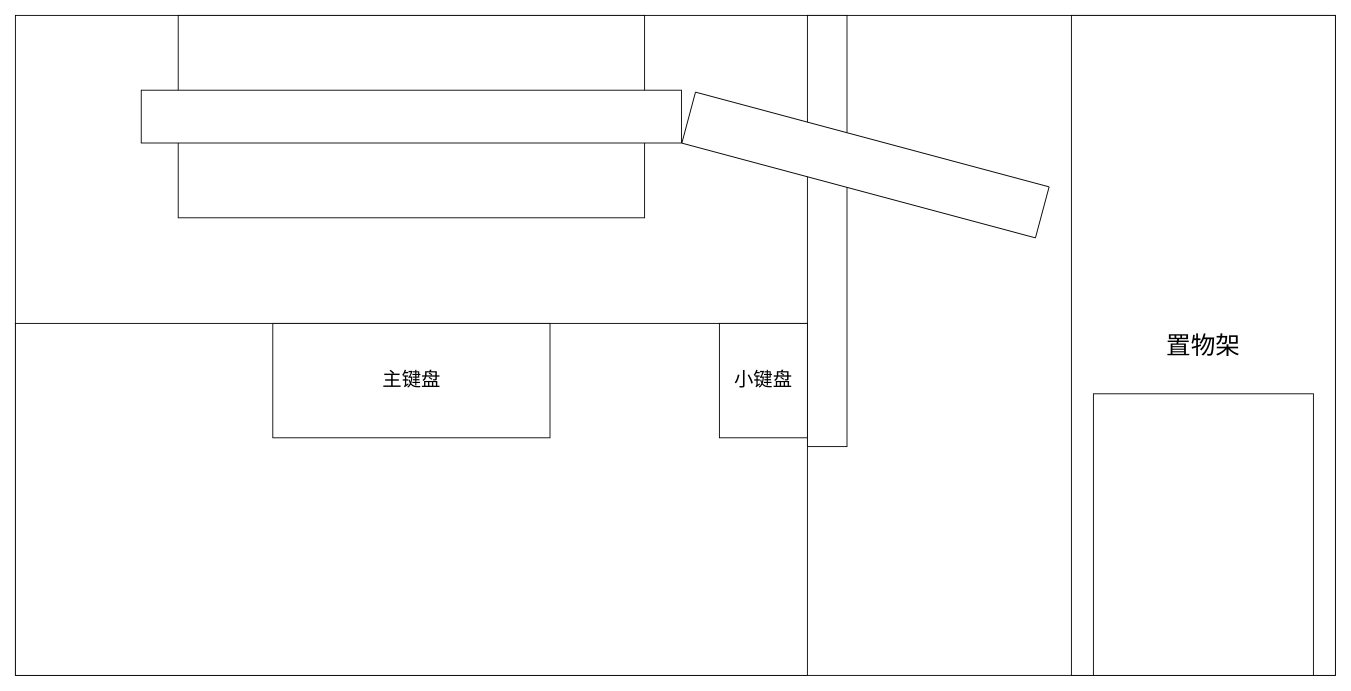
Some shapes in this 1351 by 691 pixel diagram are drawn without their labels. Here are the shapes that lost their labels. From the top down, the box of each, then its label:
(15, 323, 807, 675): 键盘鼠标工作区
(1093, 393, 1313, 675): 笔记本
